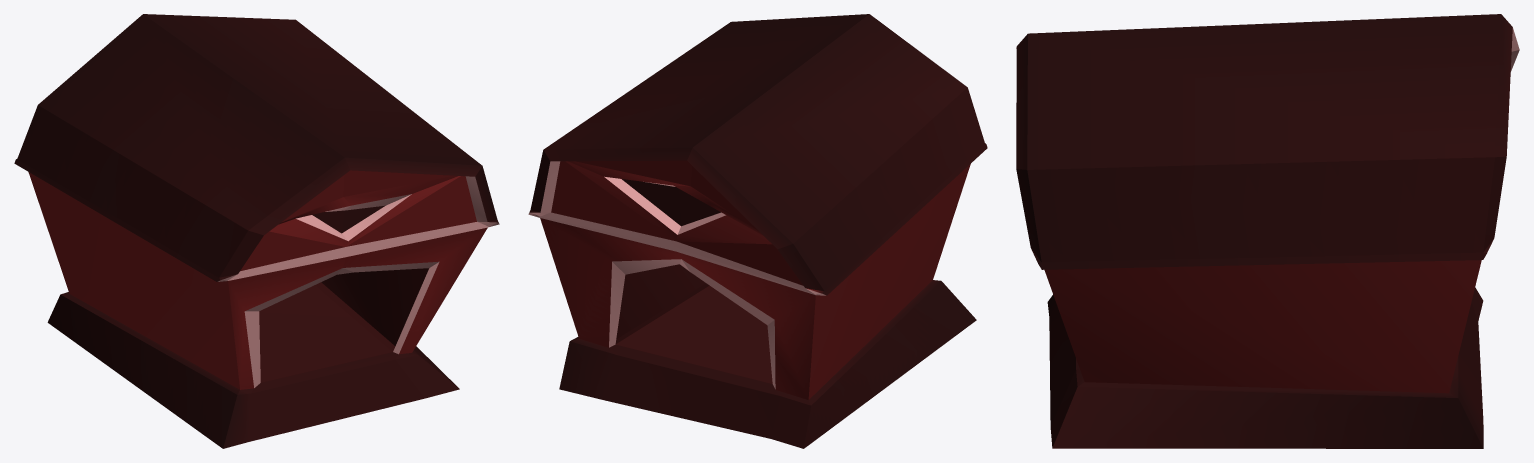
File: c_farm_barn_open_aa.fbx
3 views of the same model, side by side, from view 1: azimuth 30°, elevation 25°; view 2: azimuth 150°, elevation 25°; view 3: azimuth 270°, elevation 25° (orthographic). The views are drawn at different scales.
Visible parts, largest first — view 1: c_farm_barn_open_aa; view 2: c_farm_barn_open_aa; view 3: c_farm_barn_open_aa.
Boxes of the visible parts, x1,y1,x2,y2 form: c_farm_barn_open_aa: (14,14,499,448); c_farm_barn_open_aa: (528,14,987,448); c_farm_barn_open_aa: (1016,14,1519,448).
Size of the model in its own units: 7.69 by 6.72 by 8.77.
